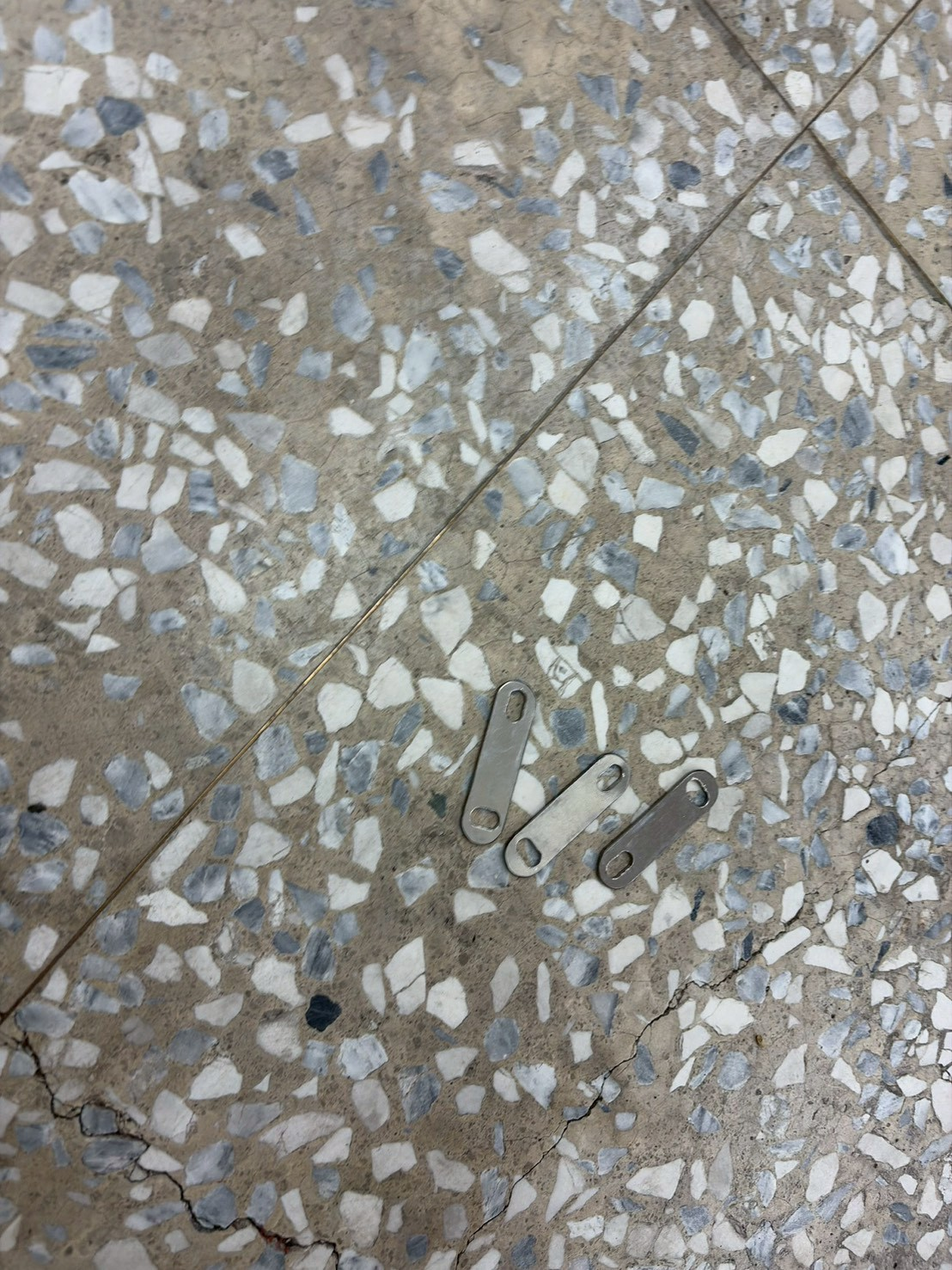Fe: (612, 743, 661, 914), (704, 754, 753, 925), (495, 674, 543, 845)
